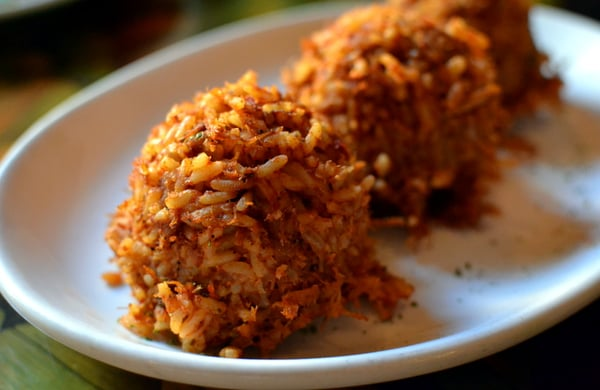sushi: (0, 15, 566, 390)
